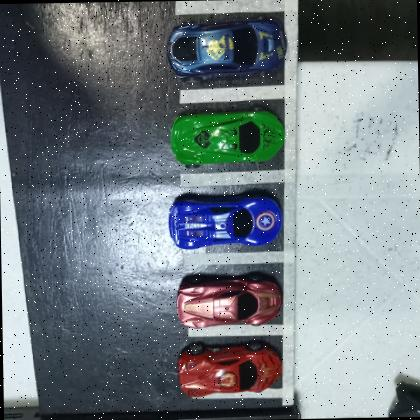Car: (163, 16, 290, 84), (168, 106, 286, 170), (166, 191, 283, 252), (175, 270, 284, 330), (177, 339, 283, 398)
